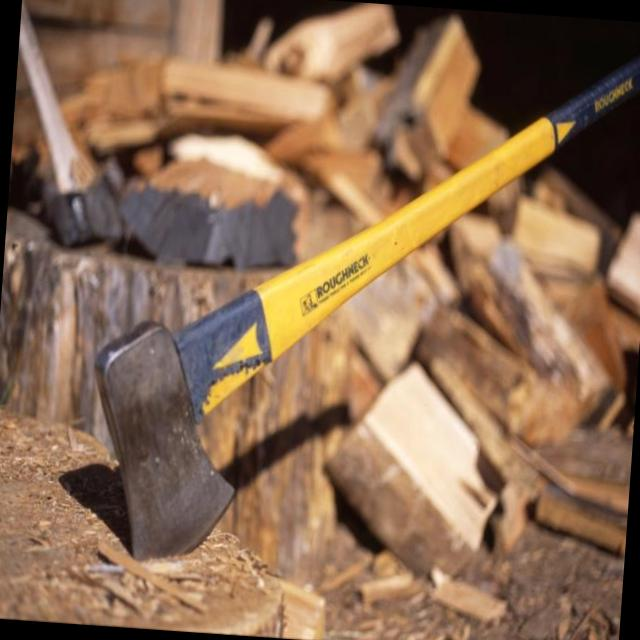Axe: (95, 58, 640, 558)
